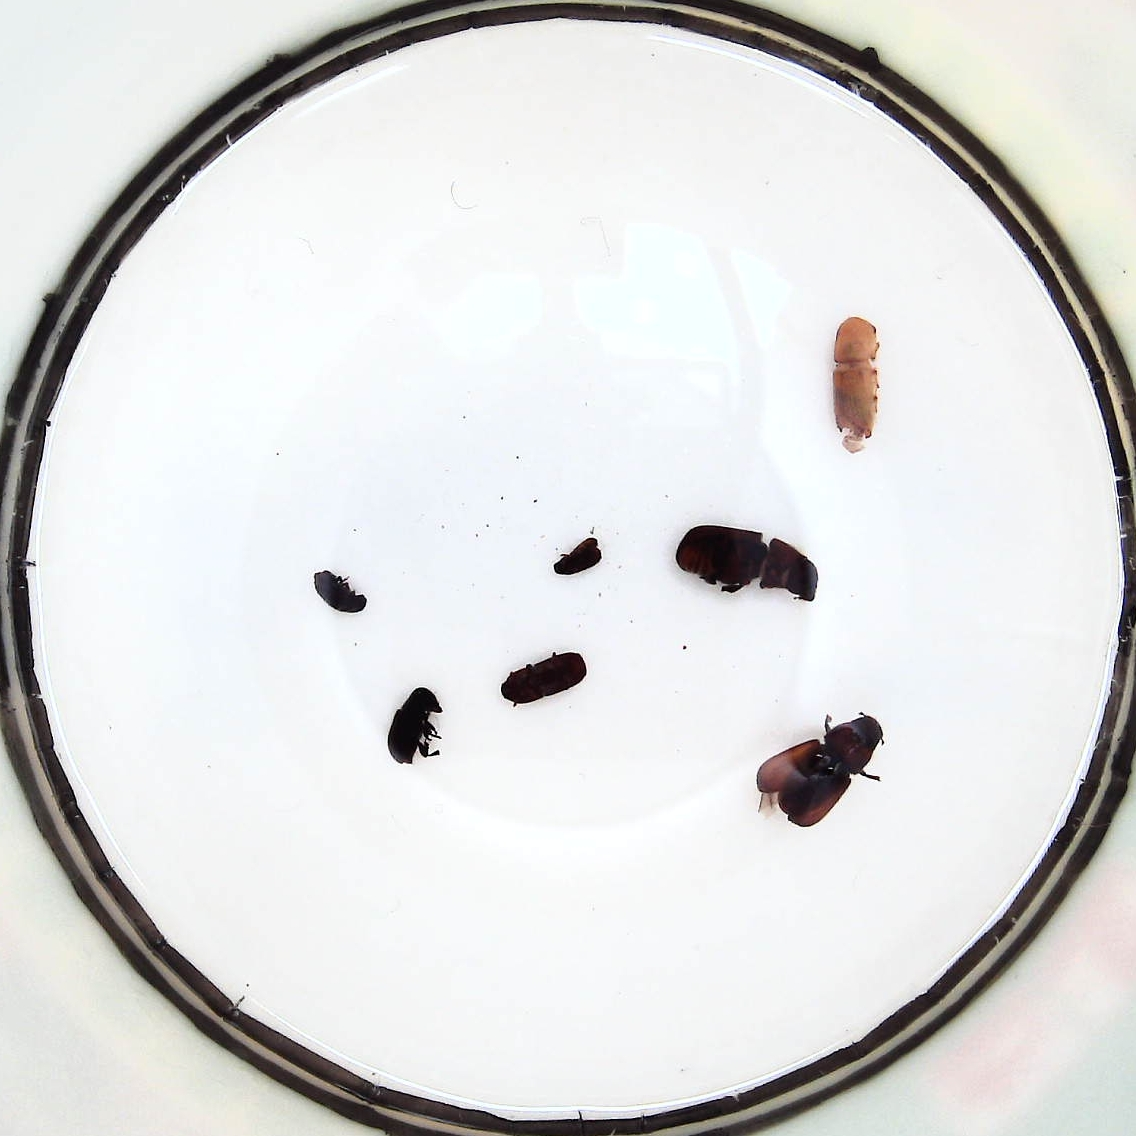Boerner: (833, 315, 880, 443)
Leconte: (756, 714, 885, 827), (678, 524, 818, 599)
acuminatus: (315, 570, 367, 614)
armandi: (388, 686, 440, 765)
coleoptera: (556, 538, 598, 576)
linnaeus: (501, 652, 587, 703)
